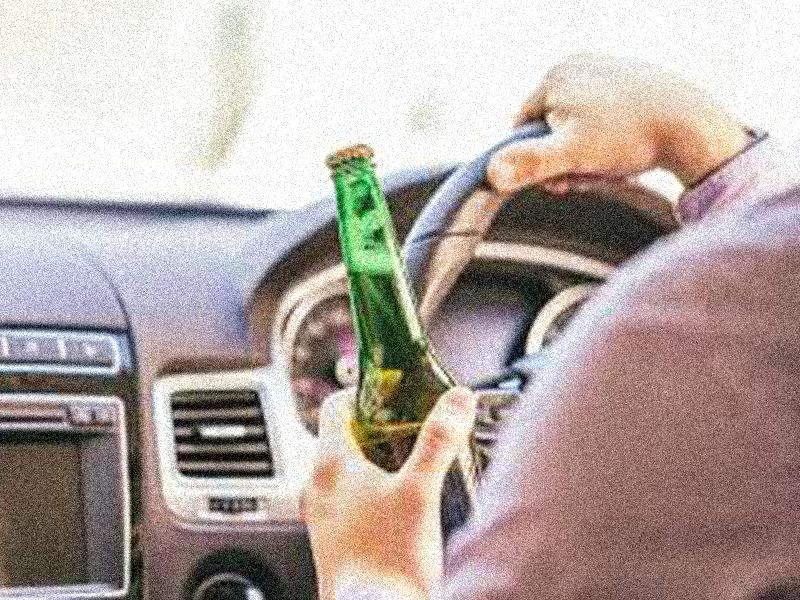Beer: (324, 141, 480, 554)
